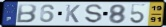5: (129, 3, 149, 25)
6: (39, 4, 56, 24)
8: (107, 4, 127, 25)
B: (15, 3, 38, 24)
K: (64, 4, 82, 24)
S: (85, 3, 104, 24)
